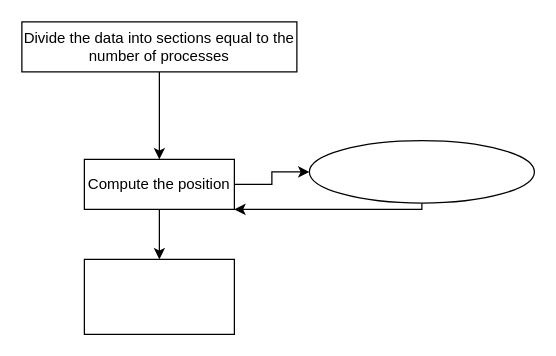
Image size: 556x356. Some labels were removed from this diagram. The shapes that lost their labels are listed below. From the top down, each one's centre as x and y in pixels, then its label:
At [421,171]: "(Rank/processes)*elements".
At [158,296]: "Send process to its own position in data".
